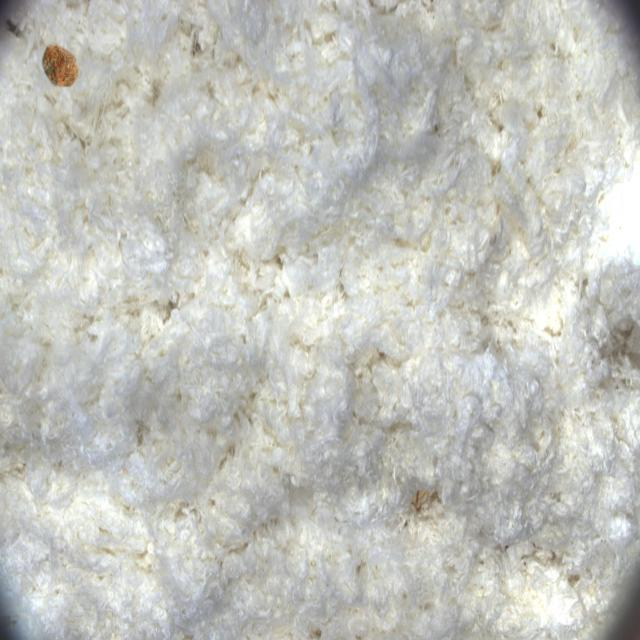dust: (27, 25, 100, 109)
